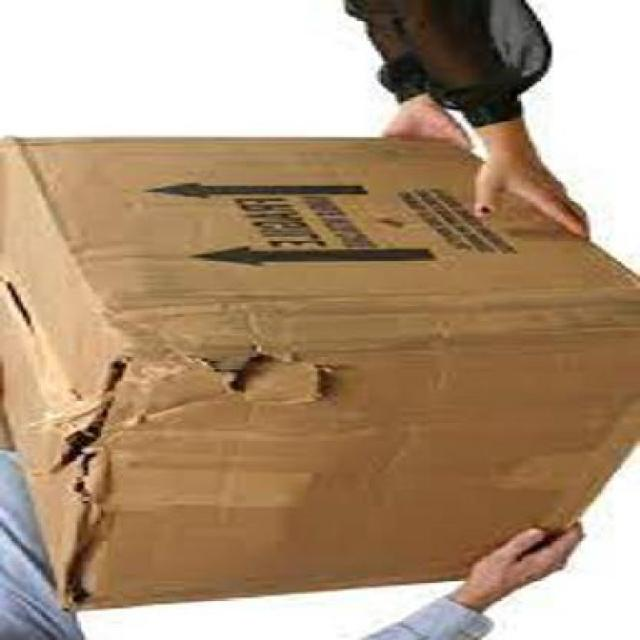defect: (1, 129, 640, 601)
